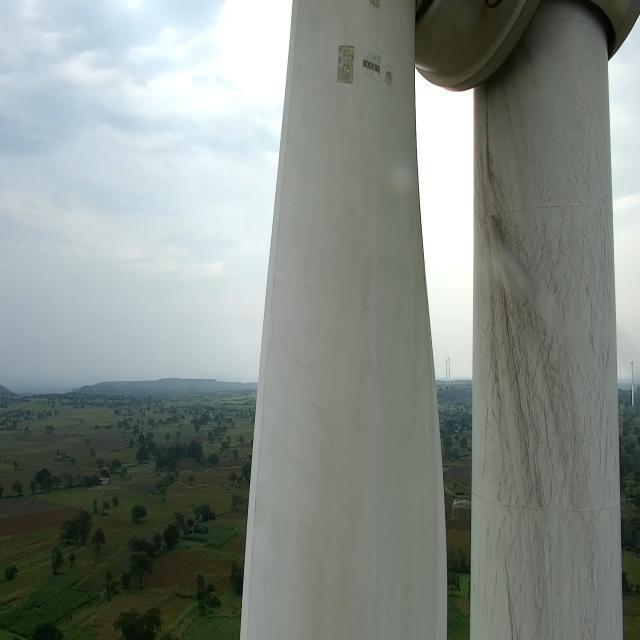Dirt: (472, 44, 626, 639)
